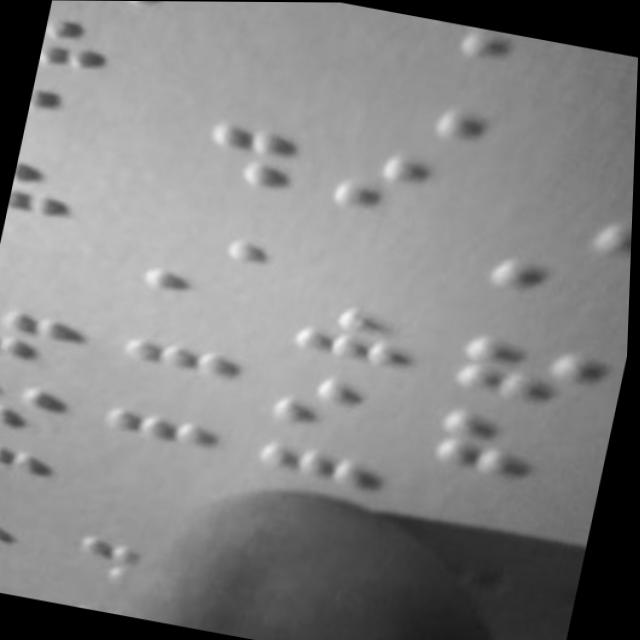braiile: (453, 320, 611, 417), (322, 137, 474, 229), (428, 402, 579, 492), (250, 428, 390, 522), (487, 245, 628, 333), (91, 398, 219, 492), (269, 361, 410, 446), (288, 293, 422, 380), (128, 253, 254, 339), (115, 324, 239, 406), (37, 5, 155, 88), (7, 147, 120, 230), (22, 78, 133, 158), (0, 293, 85, 373), (0, 363, 71, 436), (0, 426, 55, 498)
